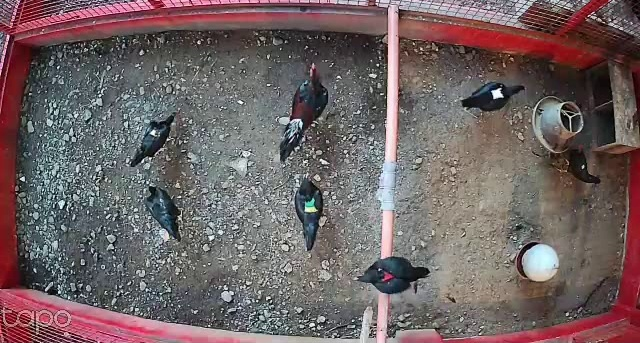Chicken: (355, 253, 432, 299), (128, 110, 180, 170), (293, 173, 329, 251), (459, 77, 528, 116), (143, 181, 184, 243), (551, 142, 603, 186)
Rooster: (274, 57, 331, 164)
Saddle_Color_Red: (380, 270, 393, 281)
Saddle_Color_White: (491, 88, 504, 100)
Saddle_Color_Yellow: (146, 127, 158, 139)
Saddle_Color_YellowGreen: (304, 198, 318, 213)
